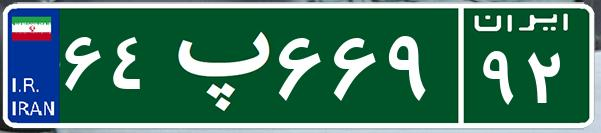2: (525, 38, 570, 115)
4: (110, 28, 158, 105)
6: (273, 28, 330, 110), (330, 28, 385, 110), (57, 26, 110, 107)
9: (385, 28, 445, 110), (475, 38, 525, 113)
پ: (158, 15, 273, 115)
